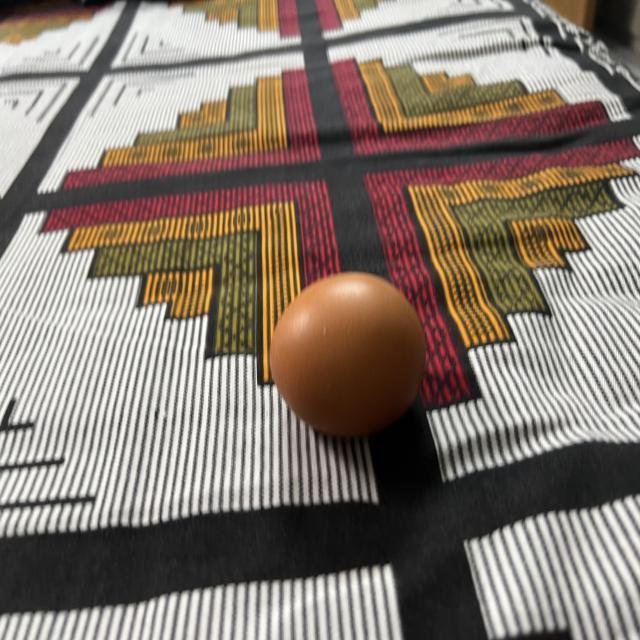egg: (266, 268, 430, 443)
